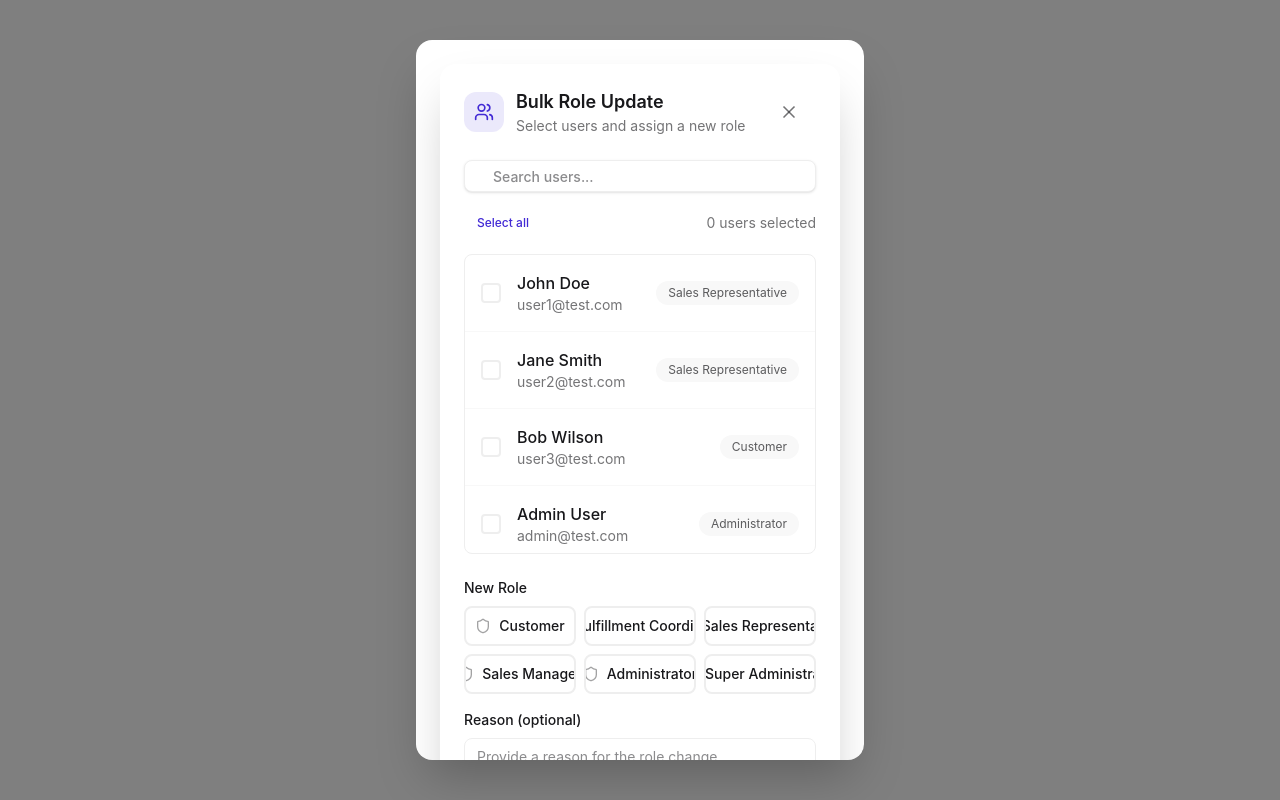
it: BulkRoleModal Component › Form Validation › should enable submit when users and role are selected
The width and height of the screenshot is (1280, 800).
Note: Select users
Click the button "Select all" at [503, 223], box [464,208,542,238]
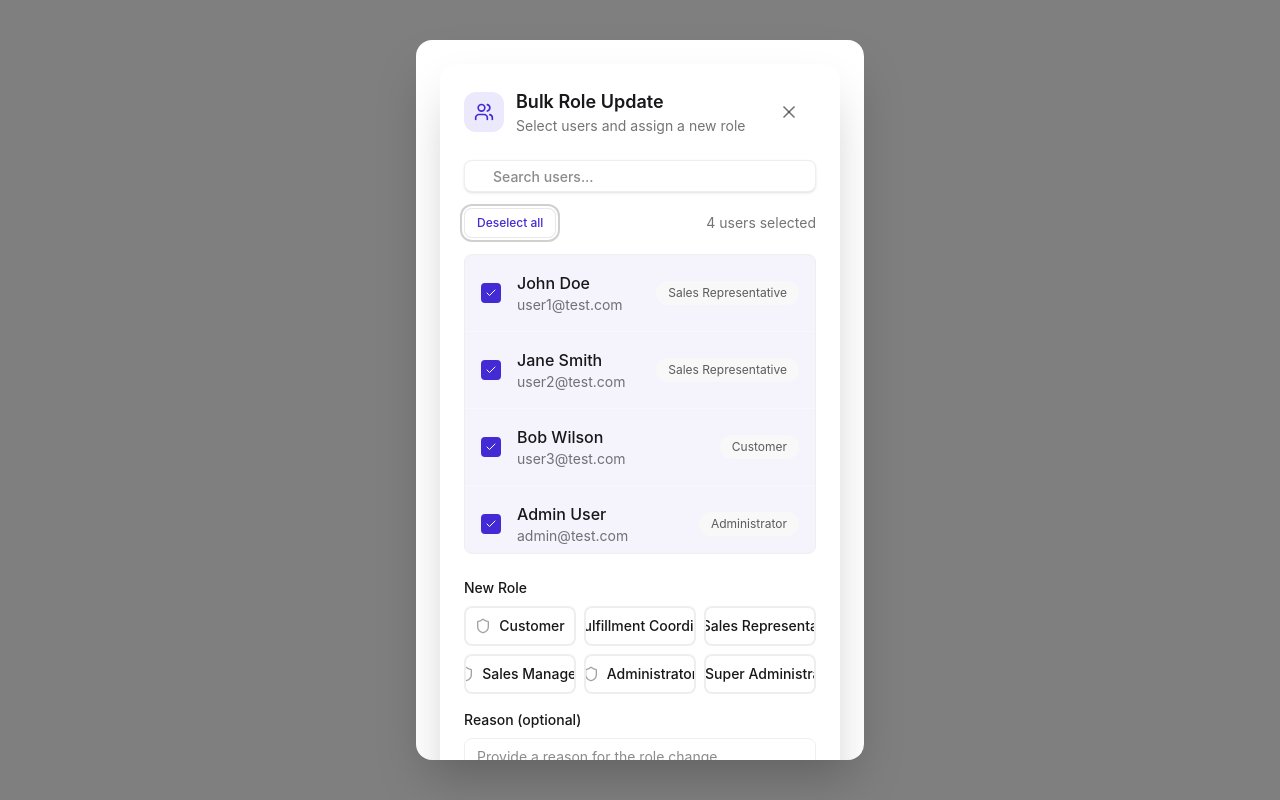
Note: Select a role
Click the button "Sales Manager" at [520, 674], box [464,654,576,694]
(page scrolled)
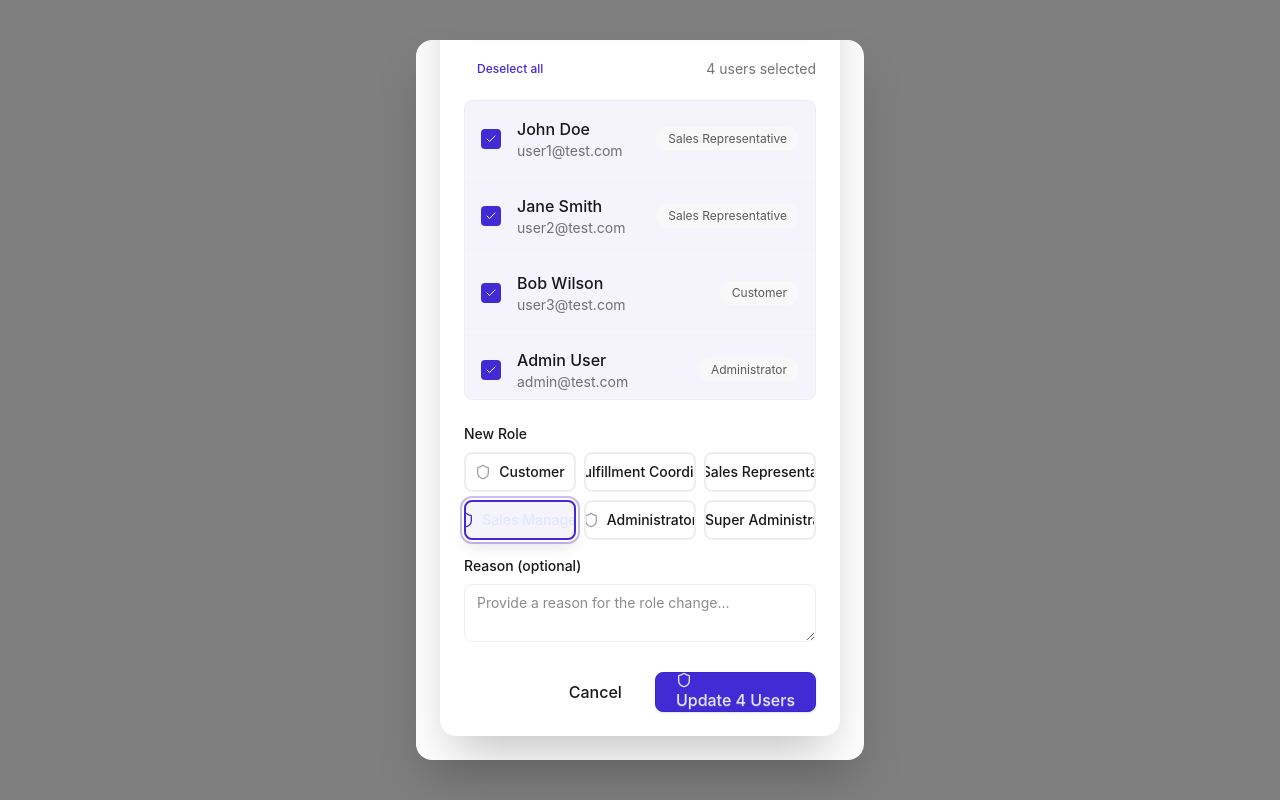
Now the button "Update 4 Users" is enabled, box [655,672,816,712]
